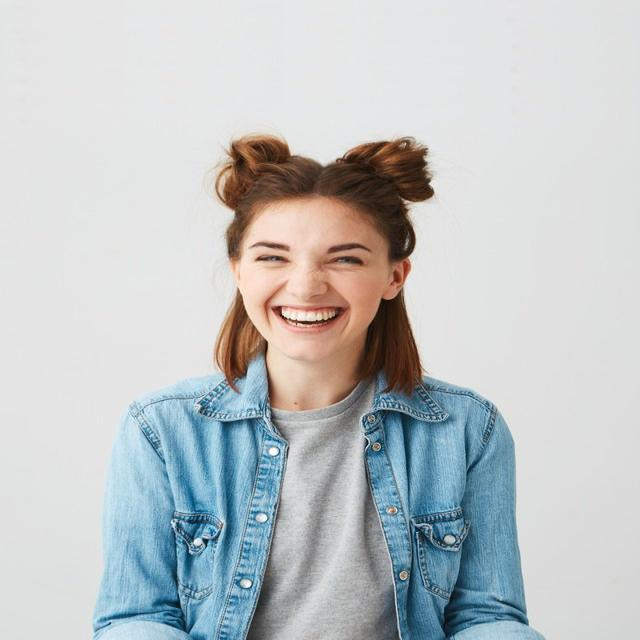human: (95, 123, 549, 640)
